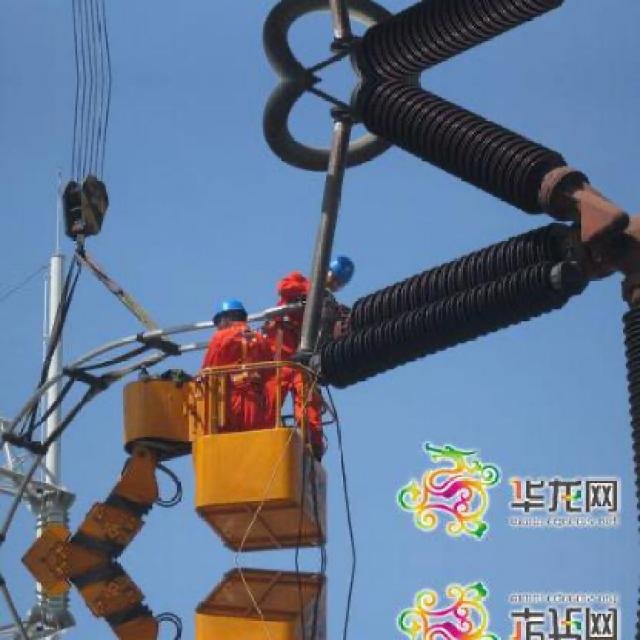Reflective-Jacket: (201, 328, 288, 436), (276, 269, 321, 355)
Safety-Helmet: (206, 289, 254, 325), (322, 250, 359, 282)
